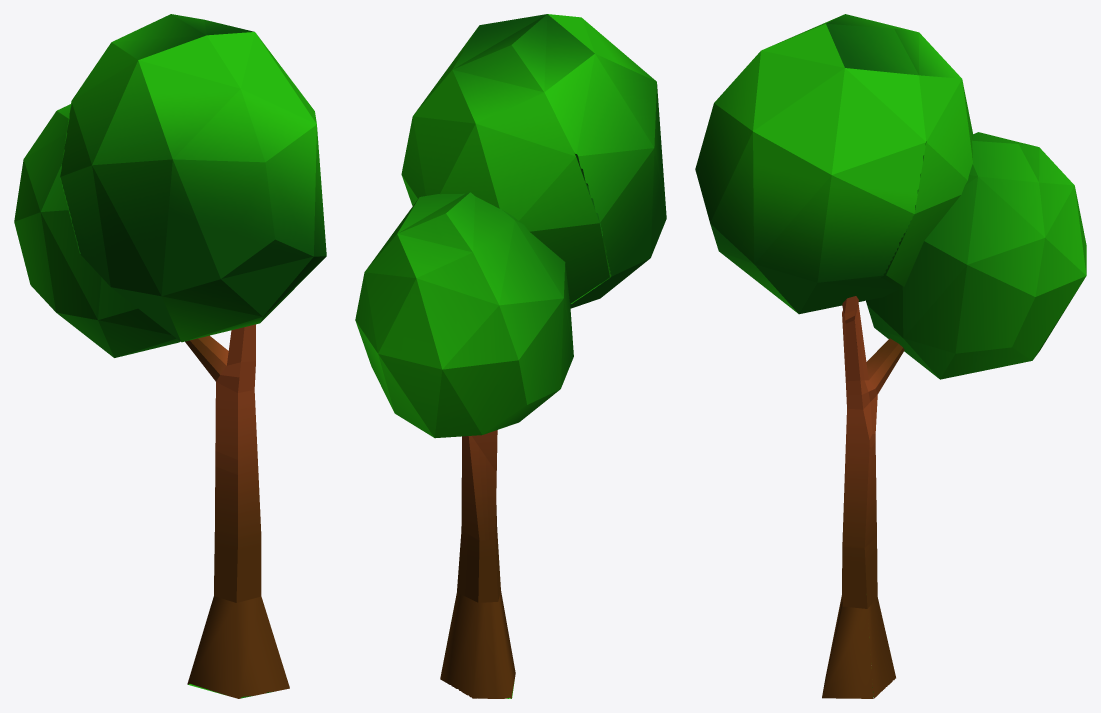
File: drzewo1.obj
3 views of the same model, side by side, from view 1: azimuth 30°, elevation 25°; view 2: azimuth 150°, elevation 25°; view 3: azimuth 270°, elevation 25° (orthographic). The views are drawn at different scales.
Visible parts, largest first — view 1: Cylinder007; view 2: Cylinder007; view 3: Cylinder007.
Part boxes in pixels (x1,y1,x2,y2): Cylinder007: (14,14,326,698); Cylinder007: (355,14,666,698); Cylinder007: (695,14,1086,698).
Size of the model in its own units: 39.3 by 113 by 63.14.
